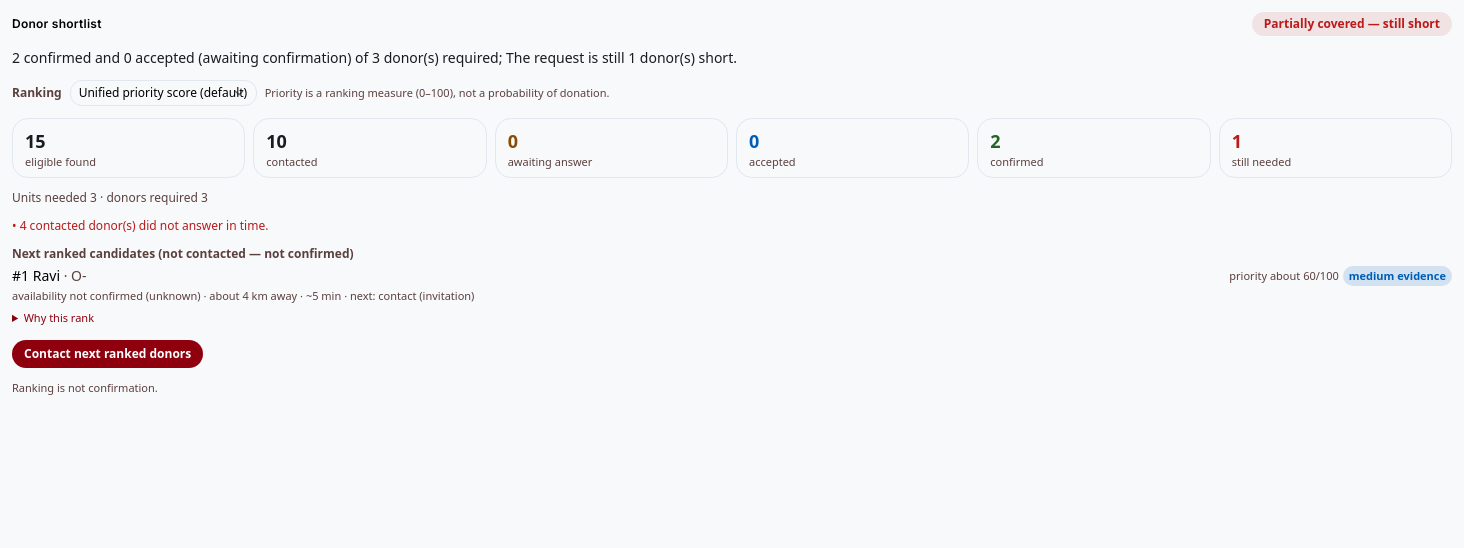
Test case: DonorShortlistPanel › labels a banded SUMMARY score as approximate and has no baseline line (privacy round 2)
Expected: the text with test id "priority-score" reads "priority about 60/100", [1229,266,1339,286]
Step 1. Click the heading "Why this rank" → (59, 317), box [24,310,94,325]
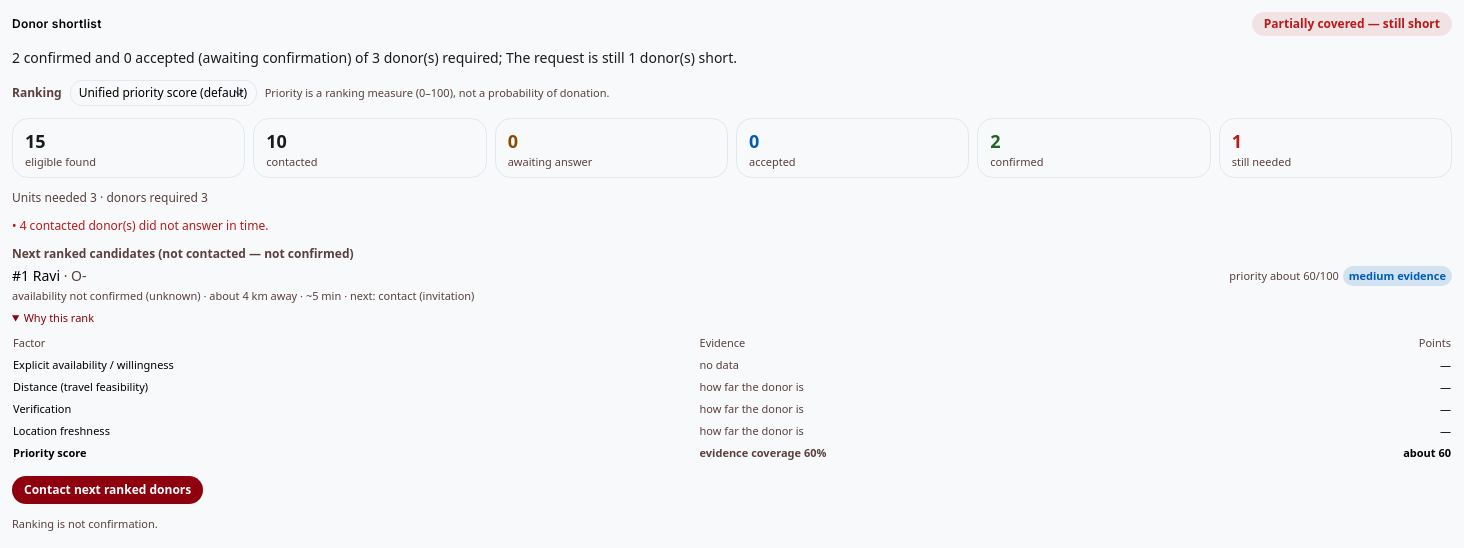
Expected: the table with test id "priority-breakdown" does not show "60.0", [12,332,1452,464]
Now the table with test id "priority-breakdown" shows "about 60", box [1403,445,1451,460]
